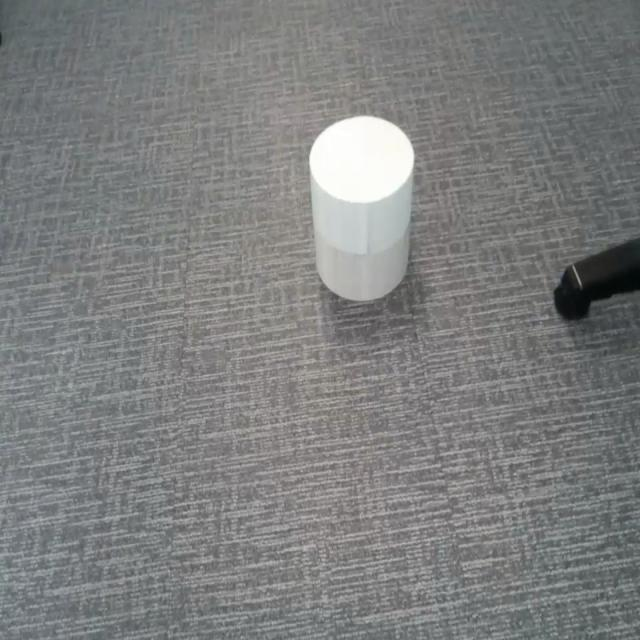cylinder: (309, 115, 415, 303)
